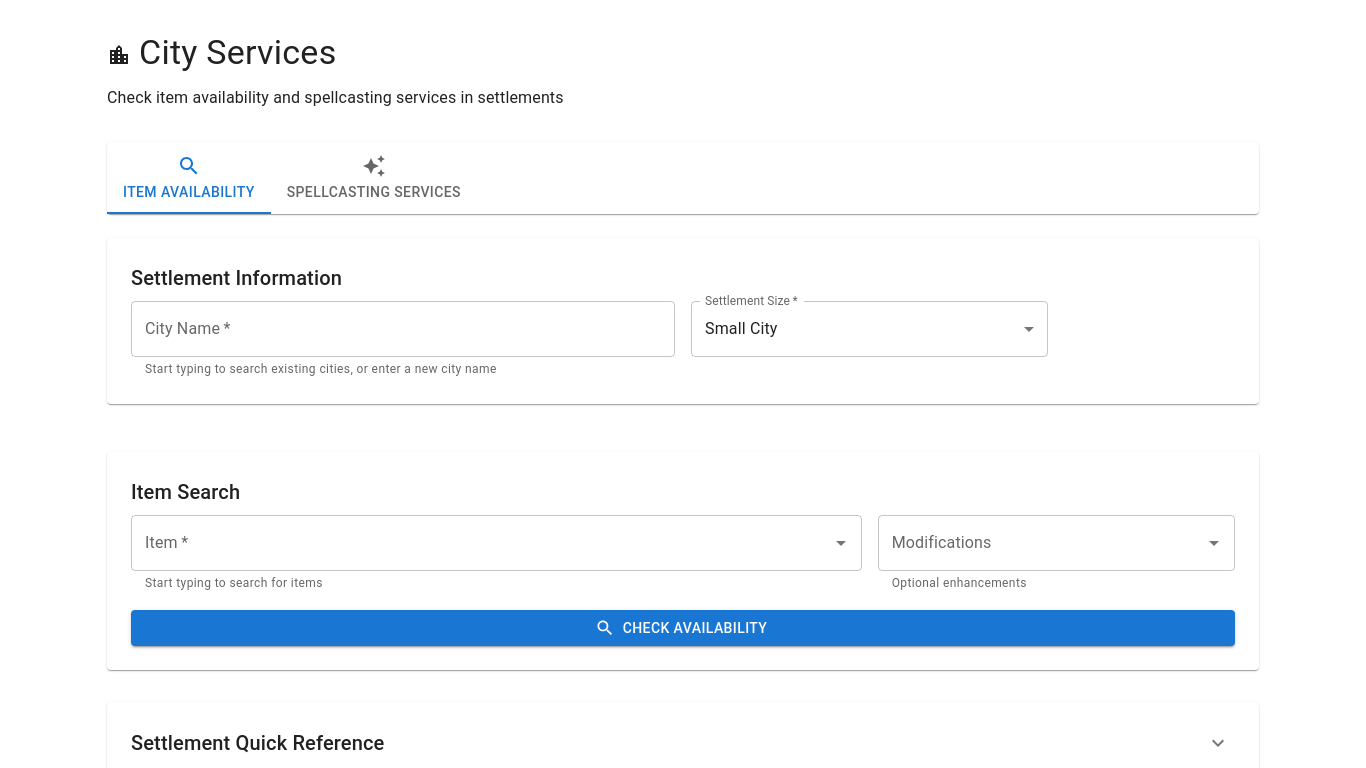
Test: CityServices › switches to Spellcasting Services tab when clicked
Click the tab "Spellcasting Services": (374, 178) [271,142,477,214]
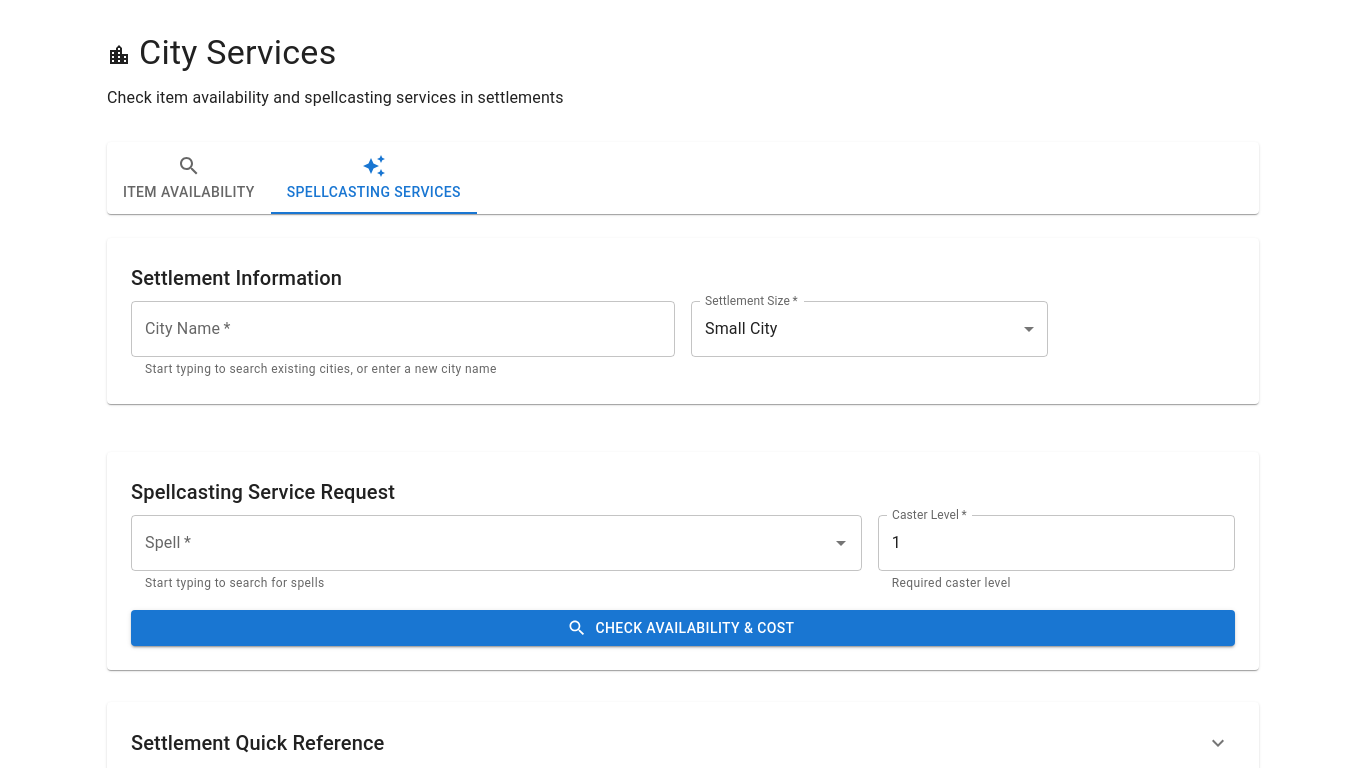
Expected: the heading "Spellcasting Service Request" is shown, [131,480,395,504]
